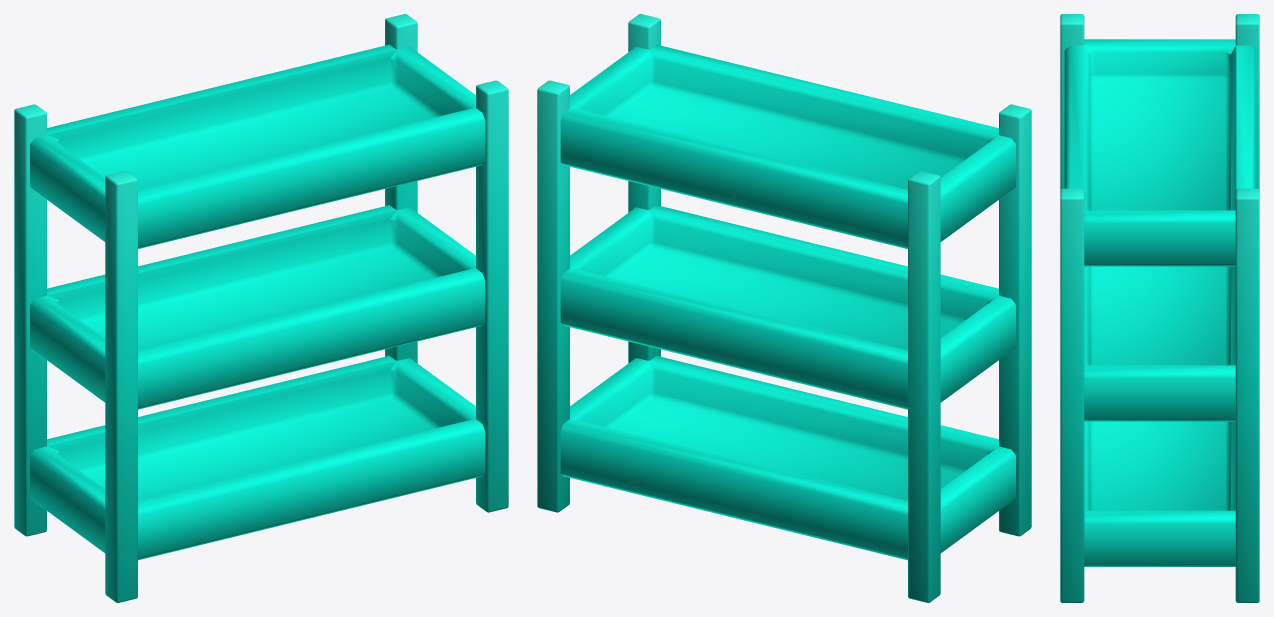
Rendered from Kitchen_Rack_01_C05.fbx.
3 renders of one model, left to right at view 1: azimuth 30°, elevation 25°; view 2: azimuth 150°, elevation 25°; view 3: azimuth 270°, elevation 25°, orthographic. The views are drawn at different scales.
Visible parts, largest first — view 1: Kitchen_Rack_01_C05; view 2: Kitchen_Rack_01_C05; view 3: Kitchen_Rack_01_C05.
Part boxes in pixels (<box>): Kitchen_Rack_01_C05: <box>14,14,508,602</box>; Kitchen_Rack_01_C05: <box>537,14,1031,602</box>; Kitchen_Rack_01_C05: <box>1060,14,1259,602</box>.
Size of the model in its own units: 159 by 162 by 72.34.
